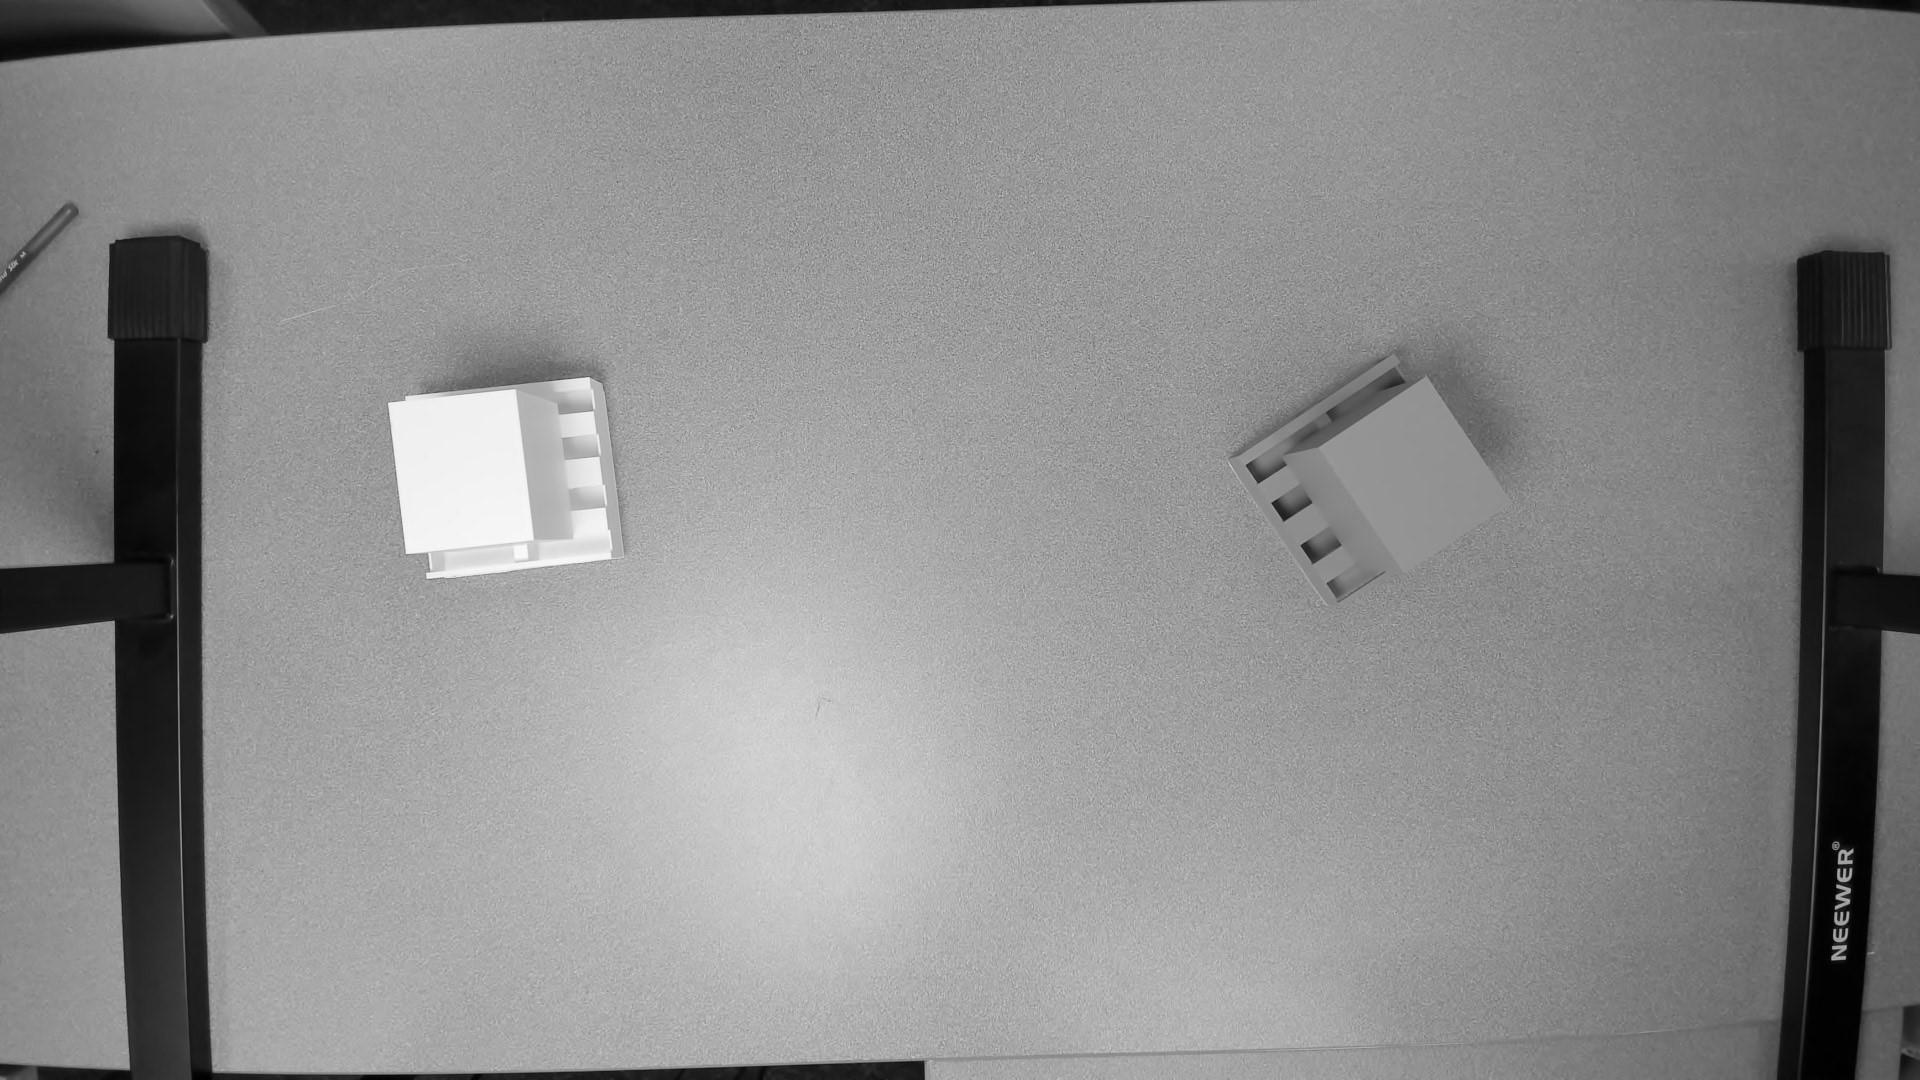grey pallet: (1217, 347, 1520, 620)
white pallet: (371, 363, 637, 593)
